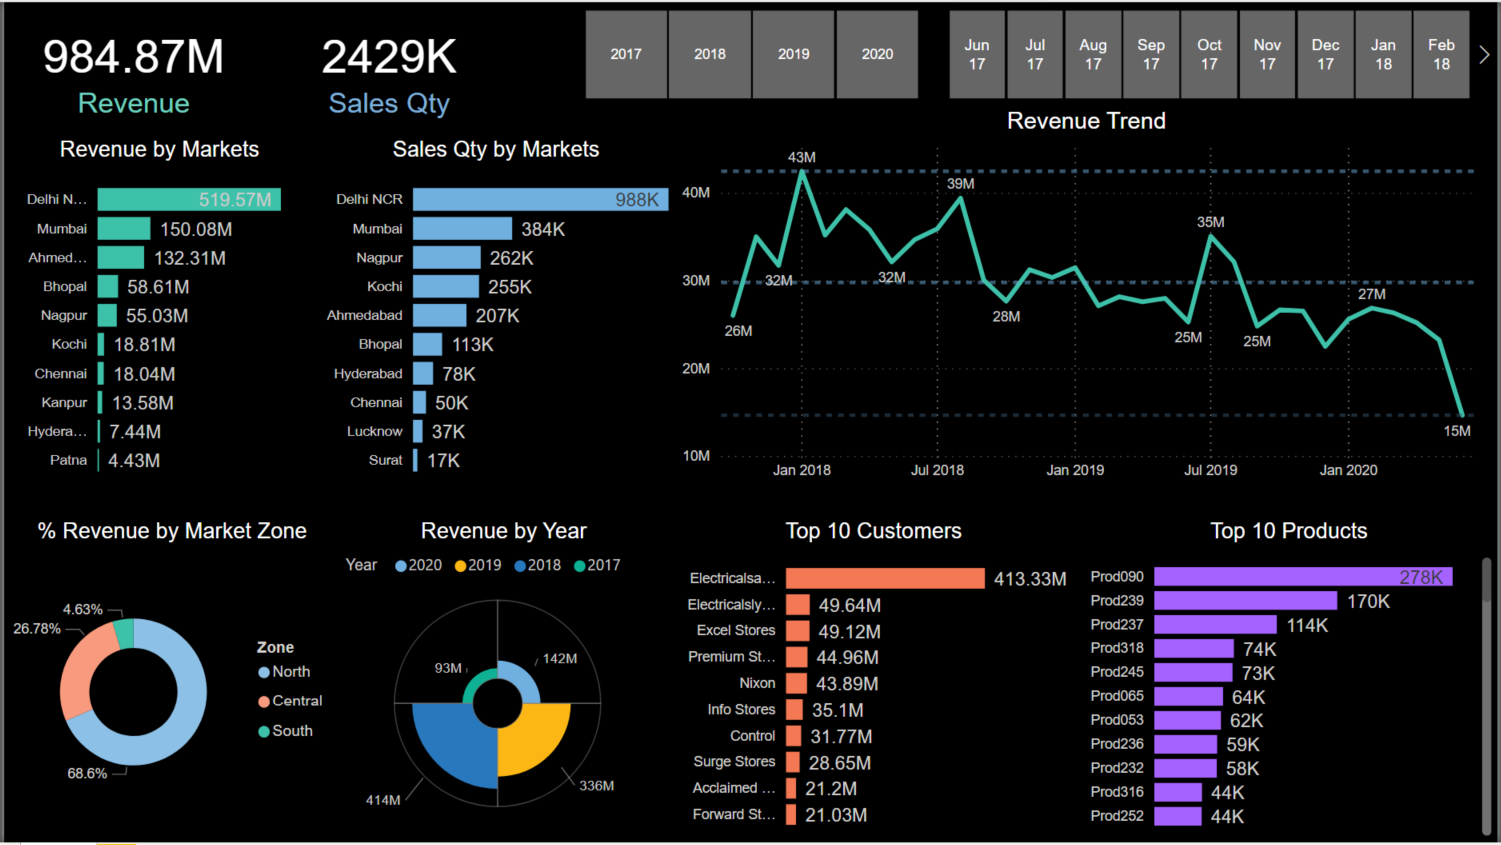

The page's visual inventory and layout, read from the dashboard file:
{"tool":"powerbi","page":{"name":"Page 1","canvas":[1280,720],"ordinal":0},"visuals":[{"type":"card","title":"Revenue","fields":{"Values":["BaseMeasures.Revenue"]},"box":[0,0,222.5,115.4],"z":0},{"type":"card","fields":{"Values":["BaseMeasures.Sales Qty"]},"box":[211.7,0,236.7,115.4],"z":1000},{"type":"barChart","title":"Revenue by Markets","fields":{"Y":["BaseMeasures.Revenue"],"Category":["sales markets.markets_name"]},"box":[0,115.4,266.5,302.2],"z":2000},{"type":"barChart","title":"Sales Qty by Markets","fields":{"Y":["BaseMeasures.Sales Qty"],"Category":["sales markets.markets_name"]},"box":[266.5,115.4,310.5,302.2],"z":3000},{"type":"slicer","fields":{"Values":["sales date.year"]},"box":[472.3,0,335.5,89.2],"z":4000},{"type":"slicer","fields":{"Values":["sales date.cy_date"]},"box":[783.9,0,496.1,89.2],"z":5000},{"type":"barChart","title":"Top 10 Customers","fields":{"Category":["sales customers.custmer_name"],"Y":["BaseMeasures.Revenue"]},"box":[568.6,442.5,354.5,277.2],"z":6000},{"type":"barChart","title":"Top 10 Products","fields":{"Y":["Sum(sales transactions.sales_qty)"],"Category":["sales transactions.product_code"]},"box":[923.1,442.5,356.9,277.2],"z":7000},{"type":"lineChart","title":"Revenue Trend","fields":{"Y":["BaseMeasures.Revenue"],"Category":["sales date.cy_date"]},"box":[575.8,90.4,704.2,327.1],"z":8000},{"type":"donutChart","title":"% Revenue by Market Zone","fields":{"Y":["BaseMeasures.Revenue"],"Category":["sales markets.zone"]},"box":[0,442.5,287.9,277.2],"z":9000},{"type":"AsterPlot1443303142064","title":"Revenue by Year","fields":{"Category":["sales date.year"],"Y":["BaseMeasures.Revenue"]},"box":[287.9,442.5,280.7,277.2],"z":10000}]}

Visuals, with their boxes in screenshot pixels (x1, y1, x2, y2), scaled from the page's 1280x720 canvas onto the 1501x845 screenshot:
"Revenue" card: <bbox>0, 0, 261, 135</bbox>
card - BaseMeasures.Sales Qty: <bbox>248, 0, 526, 135</bbox>
"Revenue by Markets" barChart: <bbox>0, 135, 313, 490</bbox>
"Sales Qty by Markets" barChart: <bbox>313, 135, 677, 490</bbox>
slicer - sales date.year: <bbox>554, 0, 947, 105</bbox>
slicer - sales date.cy_date: <bbox>919, 0, 1500, 105</bbox>
"Top 10 Customers" barChart: <bbox>667, 519, 1082, 844</bbox>
"Top 10 Products" barChart: <bbox>1082, 519, 1500, 844</bbox>
"Revenue Trend" lineChart: <bbox>675, 106, 1500, 490</bbox>
"% Revenue by Market Zone" donutChart: <bbox>0, 519, 338, 844</bbox>
"Revenue by Year" AsterPlot1443303142064: <bbox>338, 519, 667, 844</bbox>
